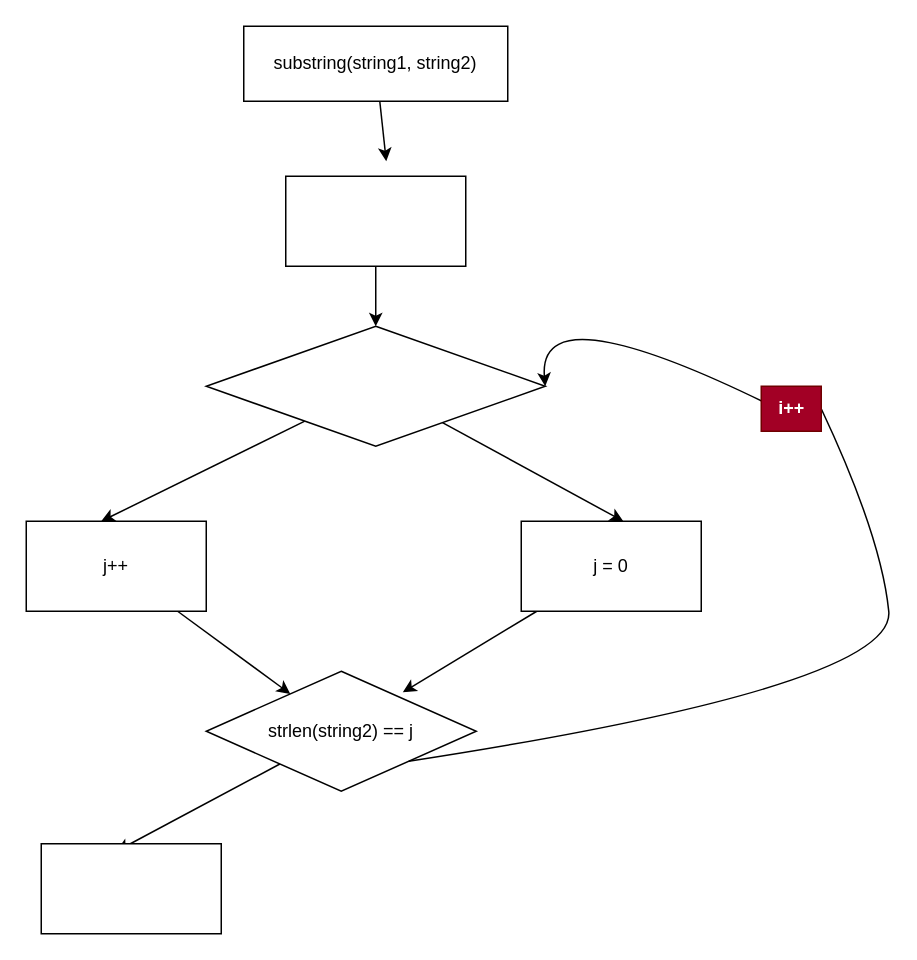
The diagram is 917 pixels wide and 960 high, and some of its shapes have lost their labels. Each missing label, with the box of its shape:
i = 0 j = 0: (284, 175, 466, 266)
return 1: (40, 842, 221, 934)
string1[i] == string2 [j]: (205, 325, 545, 446)
